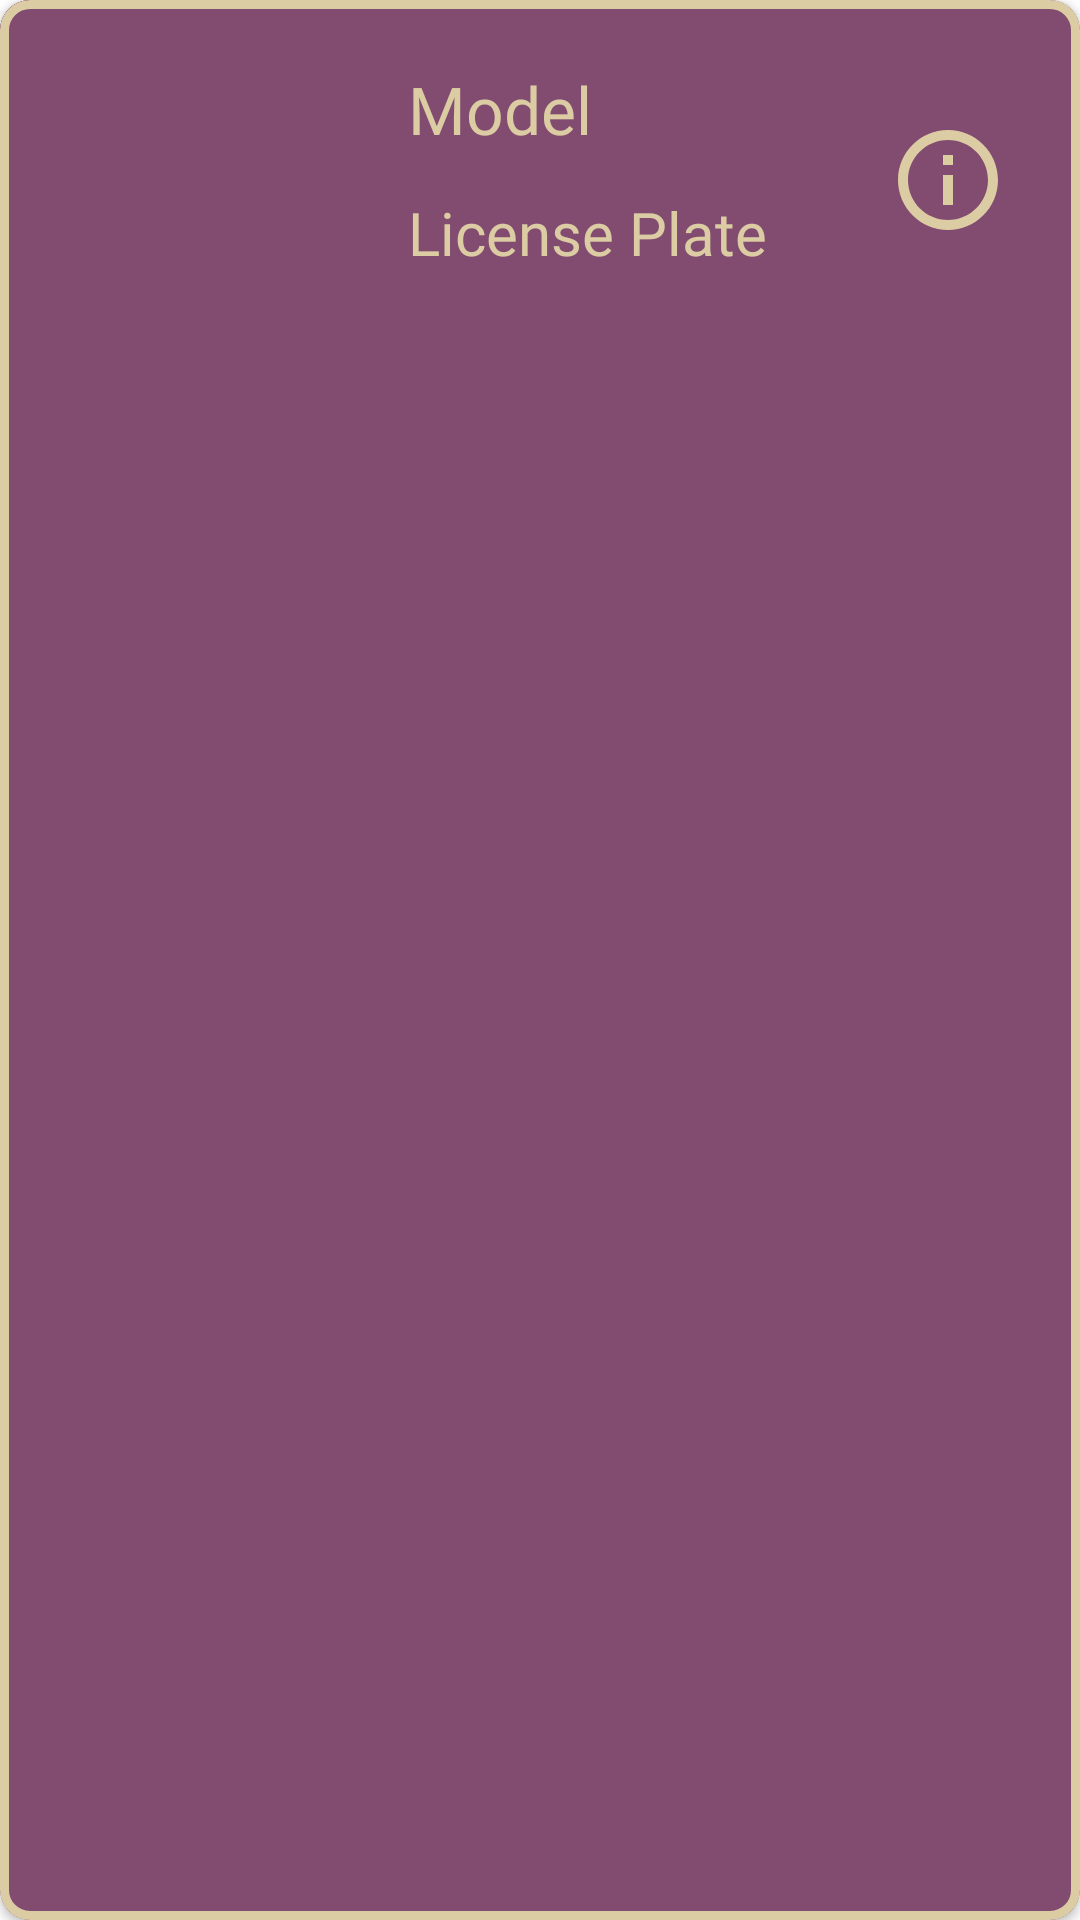

Named icons in this screenshot (1080x1920) and their centers, point (x, y):
Info Button: point (948, 180)
